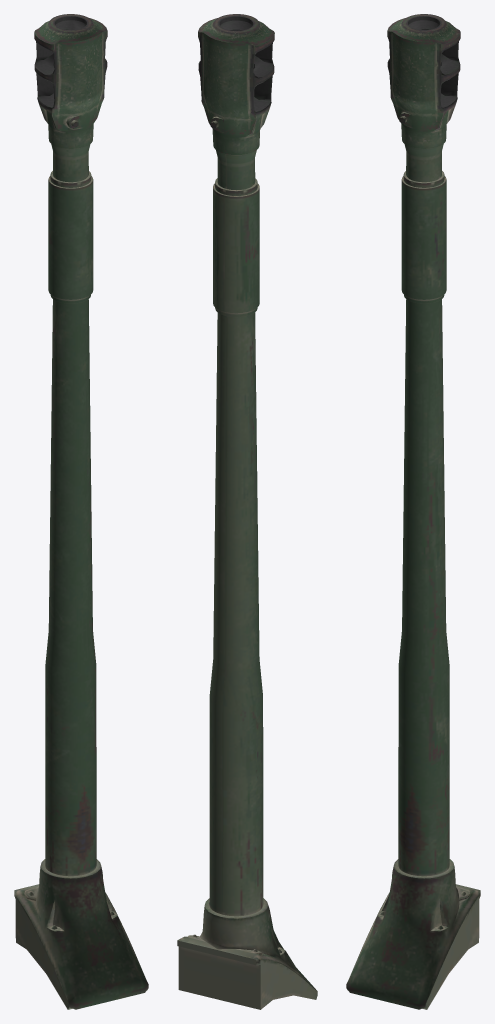
Rendered from Gun_01.glb.
3 renders of one model, left to right at view 1: azimuth 30°, elevation 25°; view 2: azimuth 150°, elevation 25°; view 3: azimuth 330°, elevation 25°, orthographic. The views are drawn at different scales.
Visible parts, largest first — view 1: set_0_group_0; view 2: set_0_group_0; view 3: set_0_group_0.
Part boxes in pixels (bbox=[...]): set_0_group_0: bbox=[14, 14, 148, 1009]; set_0_group_0: bbox=[177, 14, 317, 1009]; set_0_group_0: bbox=[346, 14, 480, 1009].
Size of the model in its own units: 0.4962 by 5.67 by 0.6308.
Materials: 1 (1 with a texture image).
